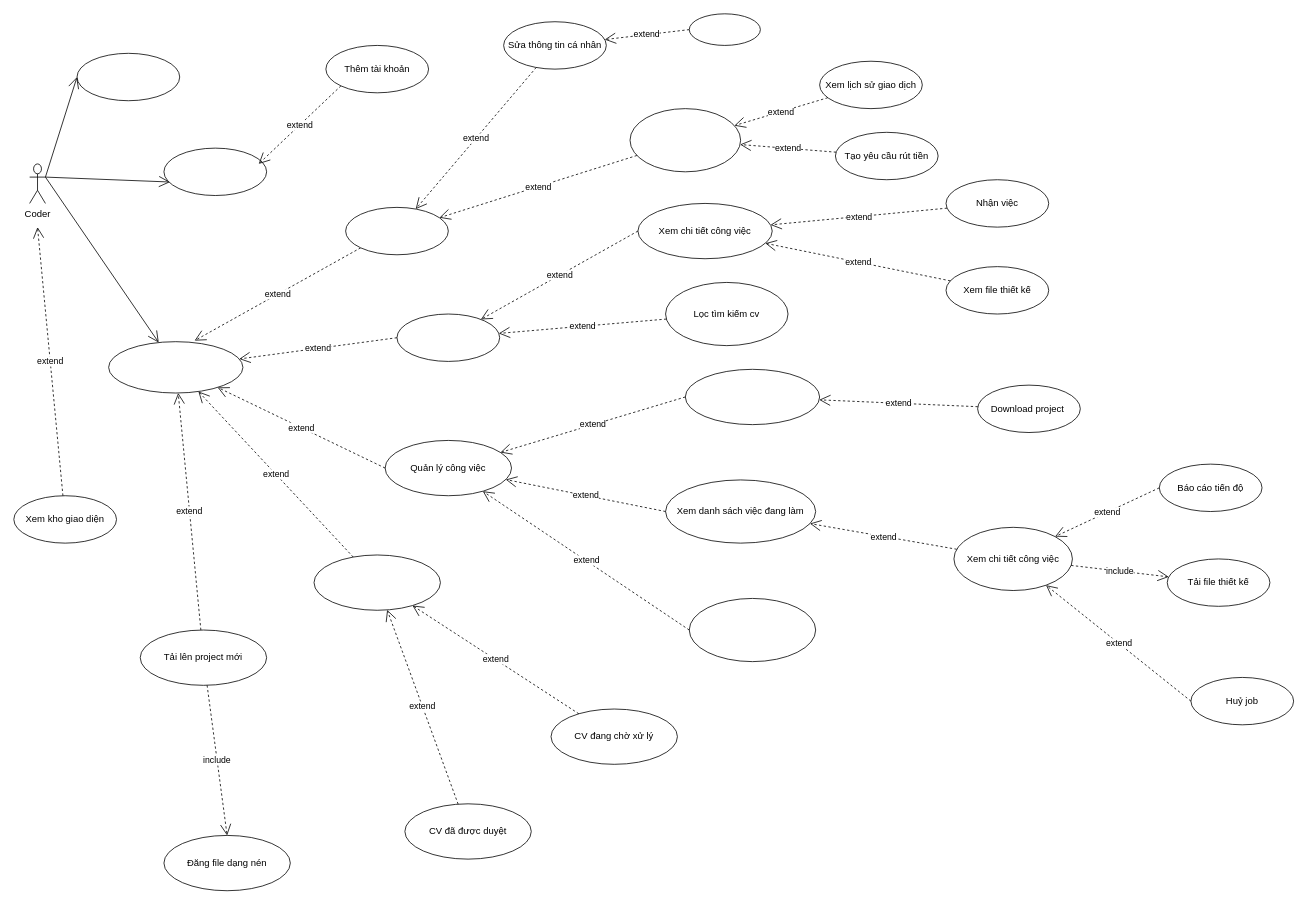
Some shapes in this 1307 by 905 pixel diagram are drawn without their labels. Here are the shapes that lost their labels. From the top down, the centre of each, then its label:
At (x=724, y=29): "Cập nhật".
At (x=128, y=77): "Quên mật khẩu".
At (x=685, y=140): "QL tkhoan thanh toán".
At (x=215, y=171): "Đăng ký".
At (x=396, y=231): "Quản lý tài khoản".
At (x=448, y=337): "Danh sách công việc".
At (x=175, y=367): "Đăng nhập".
At (x=752, y=397): "Xem công việc đã hoàn thành".
At (x=376, y=582): "Quản lý yêu cầu".
At (x=752, y=630): "Lọc tìm kiếm công việc".
